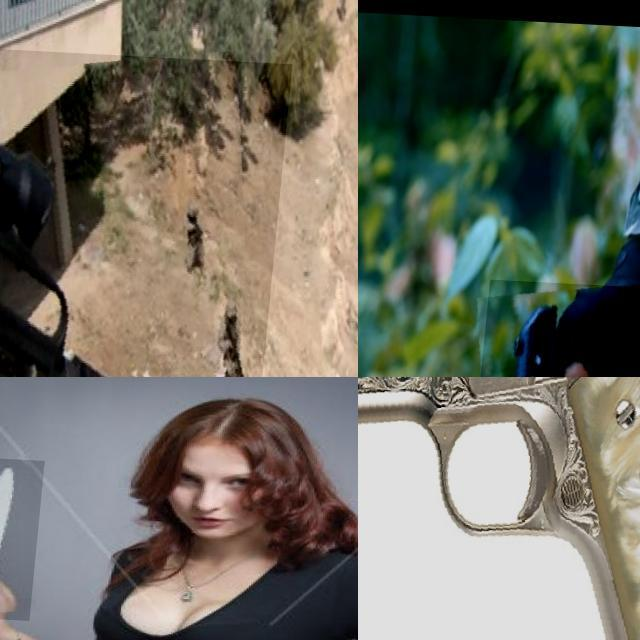-: (0, 454, 62, 619)
gun-knife-thesis - v11 Yolov5 augmented: (0, 44, 294, 377), (358, 377, 640, 640), (469, 274, 640, 377)
